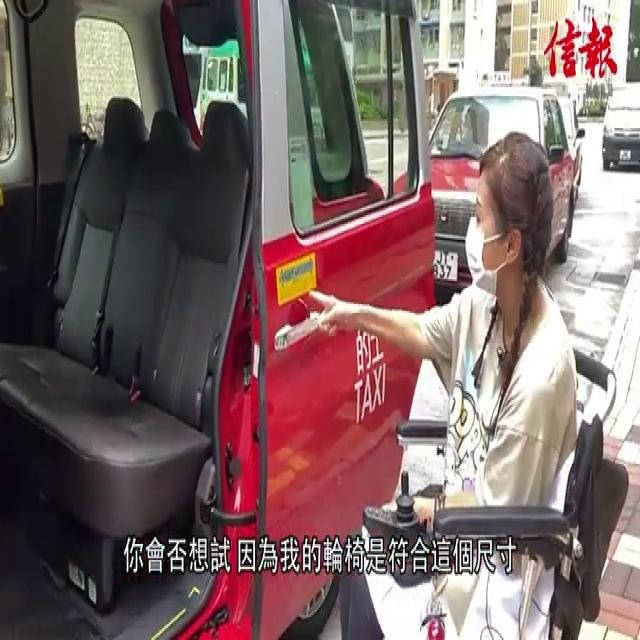wheelchairs: (346, 304, 640, 640)
